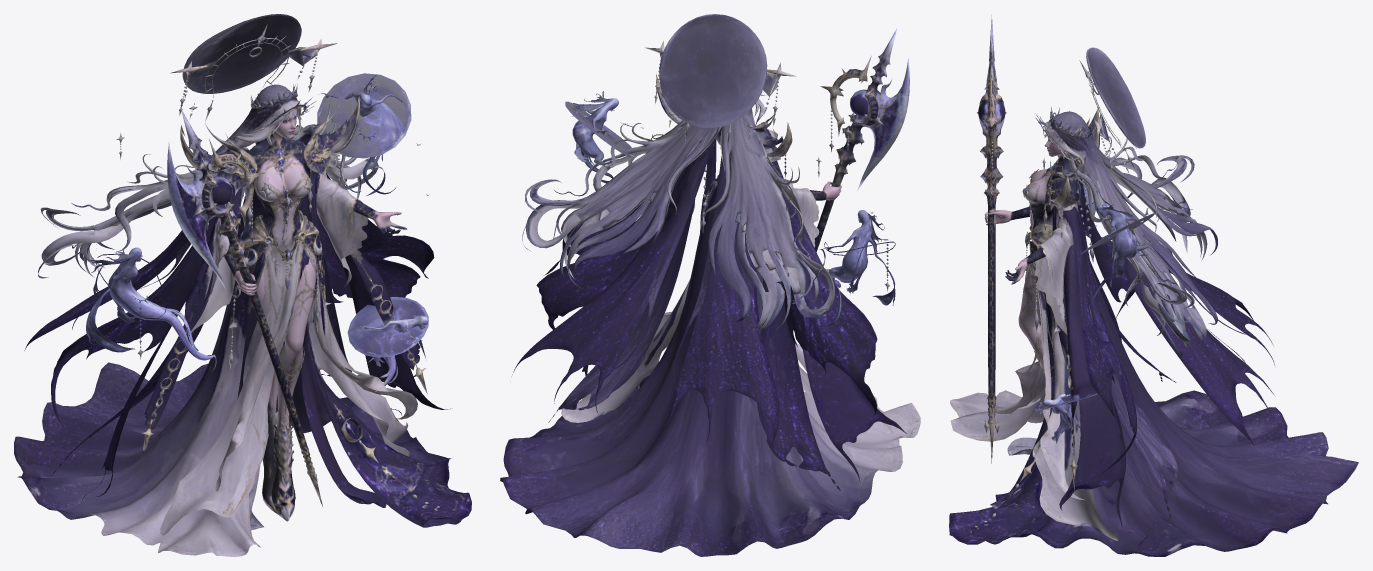
The model's file is nyxara_original.glb.
3 views of the same model, side by side, from view 1: azimuth 30°, elevation 25°; view 2: azimuth 150°, elevation 25°; view 3: azimuth 270°, elevation 25° (orthographic). The views are drawn at different scales.
Parts seen in each view (by area): view 1: tripo_node_6d340131-d6d9-4e8b-b380-6457559a2f2a; view 2: tripo_node_6d340131-d6d9-4e8b-b380-6457559a2f2a; view 3: tripo_node_6d340131-d6d9-4e8b-b380-6457559a2f2a.
Part boxes in pixels (box(x1,y1,x2,y2)): tripo_node_6d340131-d6d9-4e8b-b380-6457559a2f2a: box(14, 14, 471, 556); tripo_node_6d340131-d6d9-4e8b-b380-6457559a2f2a: box(500, 14, 920, 556); tripo_node_6d340131-d6d9-4e8b-b380-6457559a2f2a: box(949, 14, 1358, 556).
Bounding box in the file's own units: 0.7993 × 0.9995 × 0.8599.
1 material, 1 textured.
